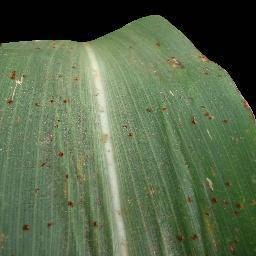Corn_Common_Rust: (130, 37, 222, 78), (201, 176, 254, 219), (73, 111, 91, 172), (29, 33, 77, 53), (188, 108, 231, 128), (29, 95, 74, 110), (238, 82, 256, 118), (171, 228, 202, 246), (5, 68, 28, 83), (225, 237, 242, 256), (57, 172, 88, 182), (143, 104, 174, 114), (69, 61, 83, 82), (16, 218, 34, 234), (120, 121, 136, 138), (98, 128, 111, 148), (142, 185, 159, 199), (64, 196, 79, 209), (49, 69, 64, 82), (183, 191, 196, 204), (33, 184, 44, 199), (42, 216, 54, 229), (89, 219, 102, 230), (55, 146, 65, 160), (51, 118, 62, 130), (36, 159, 49, 168), (6, 98, 15, 107)
